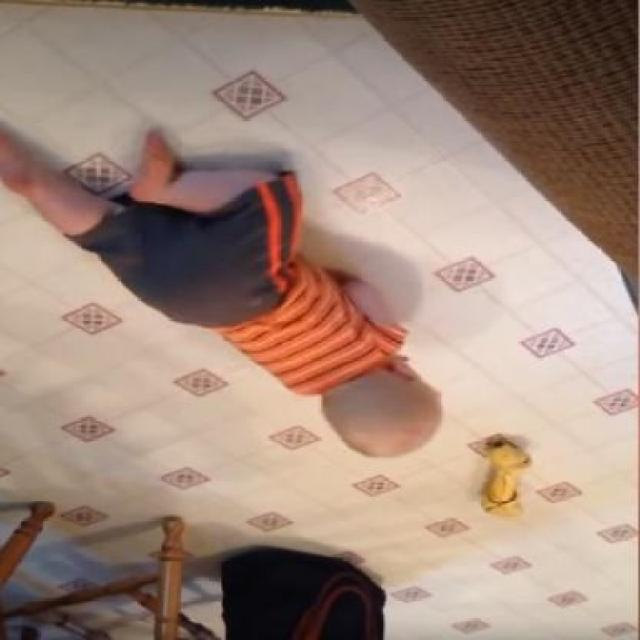child: (0, 131, 443, 463)
